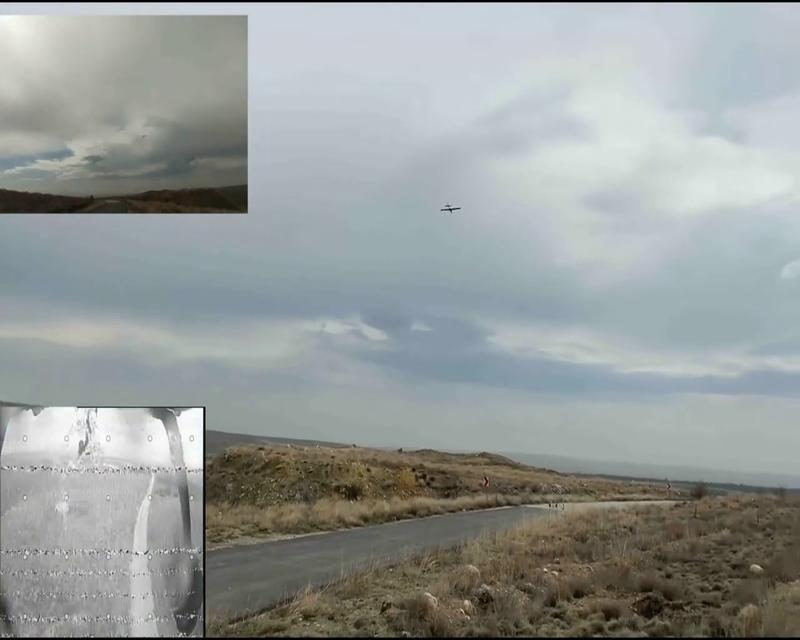UAV: (0, 403, 205, 637), (440, 202, 462, 215)
